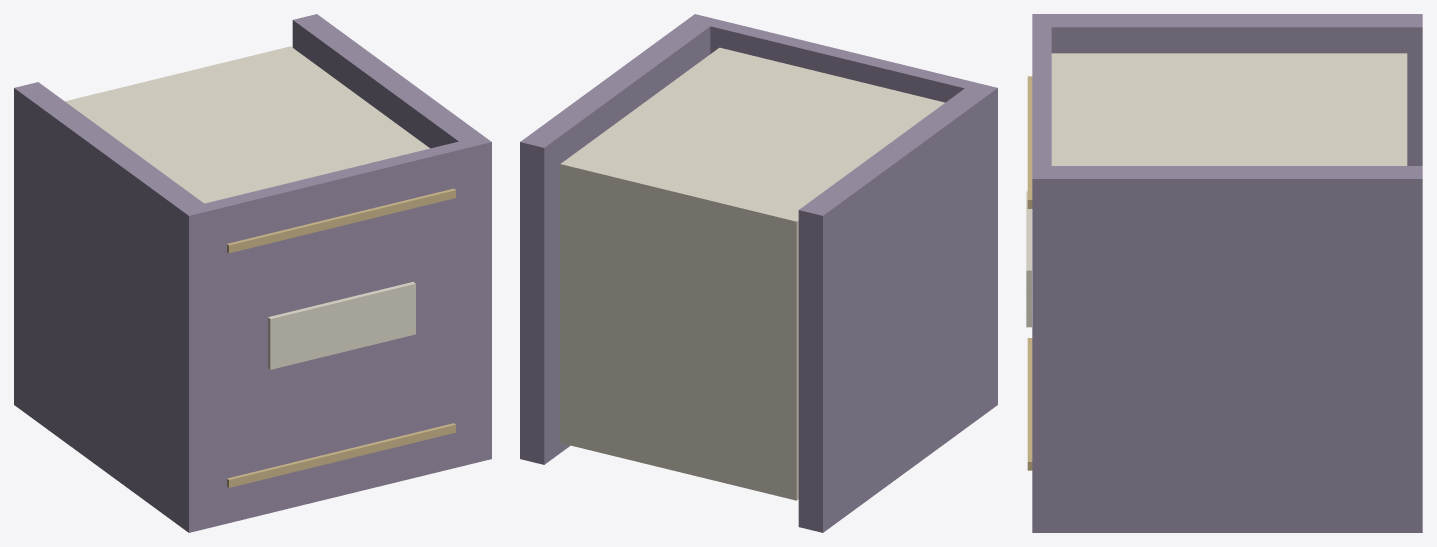
The model's file is island-book-2.glb.
3 renders of one model, left to right at view 1: azimuth 30°, elevation 25°; view 2: azimuth 150°, elevation 25°; view 3: azimuth 270°, elevation 25°, orthographic. The views are drawn at different scales.
Visible parts, largest first — view 1: IslandBook2; view 2: IslandBook2; view 3: IslandBook2.
Boxes of the visible parts, <box> form: IslandBook2: <box>14,14,491,532</box>; IslandBook2: <box>520,14,997,532</box>; IslandBook2: <box>1026,14,1422,532</box>.
Bounding box in the file's own units: 1 × 1 × 1.02.
